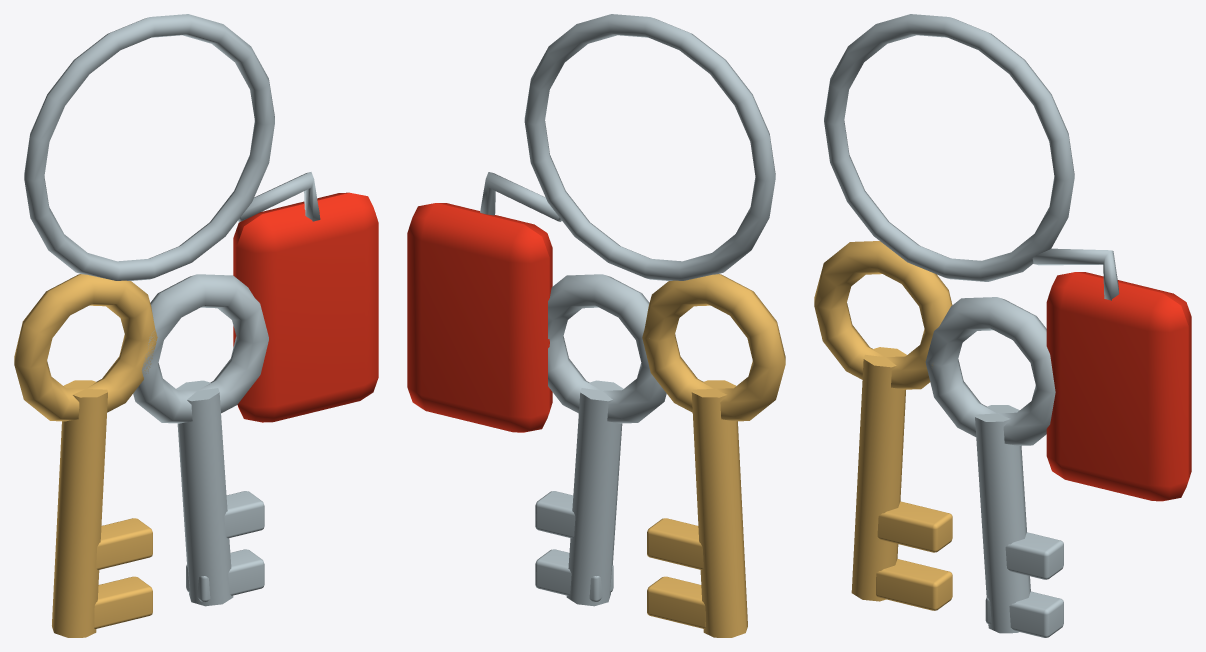
The model's file is 19_Keys.glb.
3 renders of one model, left to right at view 1: azimuth 30°, elevation 25°; view 2: azimuth 150°, elevation 25°; view 3: azimuth 330°, elevation 25°, orthographic.
Visible parts, largest first — view 1: 19_Keys_EXPORT; view 2: 19_Keys_EXPORT; view 3: 19_Keys_EXPORT.
Part boxes in pixels (x1,y1,x2,y2): 19_Keys_EXPORT: (14,14,378,637); 19_Keys_EXPORT: (407,14,785,637); 19_Keys_EXPORT: (814,14,1191,637).
Bounding box in the file's own units: 0.185 × 0.2857 × 0.029.
